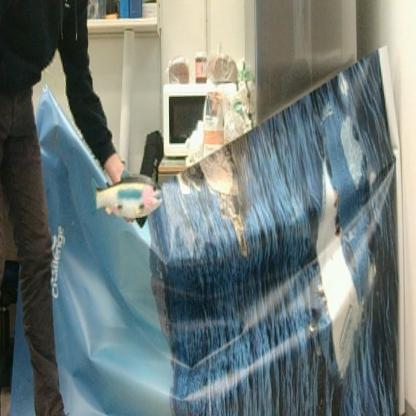rubberfish: (87, 168, 163, 222)
